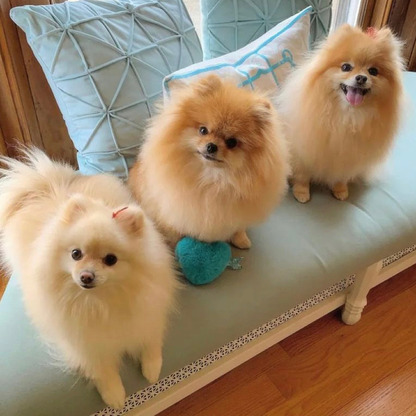Pomeranian: (126, 71, 291, 270), (12, 159, 148, 383), (281, 20, 405, 214)
